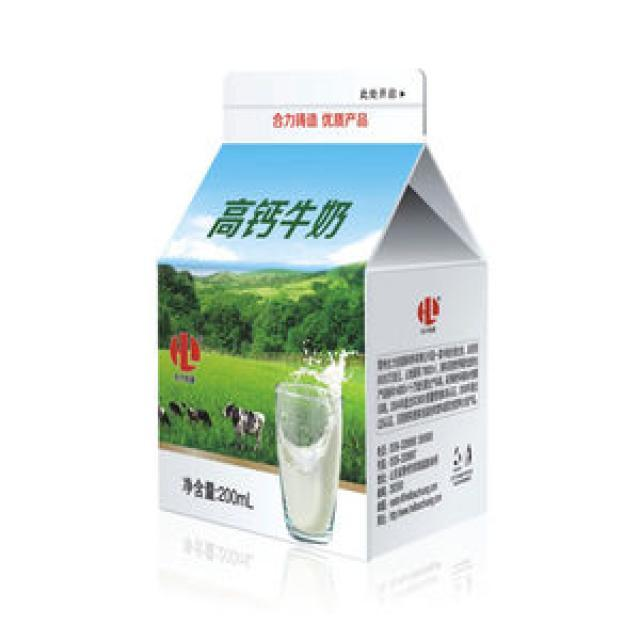Carton: (142, 56, 499, 581)
